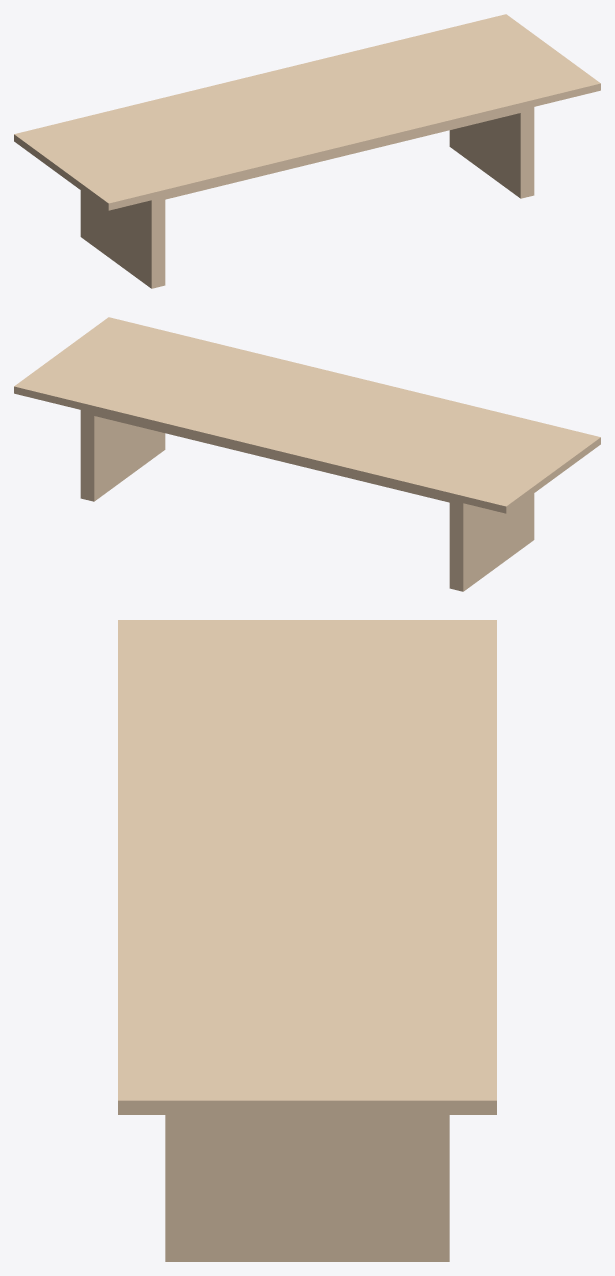
3 renders of one model, top to bottom at view 1: azimuth 30°, elevation 25°; view 2: azimuth 150°, elevation 25°; view 3: azimuth 270°, elevation 25°, orthographic. The views are drawn at different scales.
Bounding box in the file's own units: 12 × 2.5 × 4.
